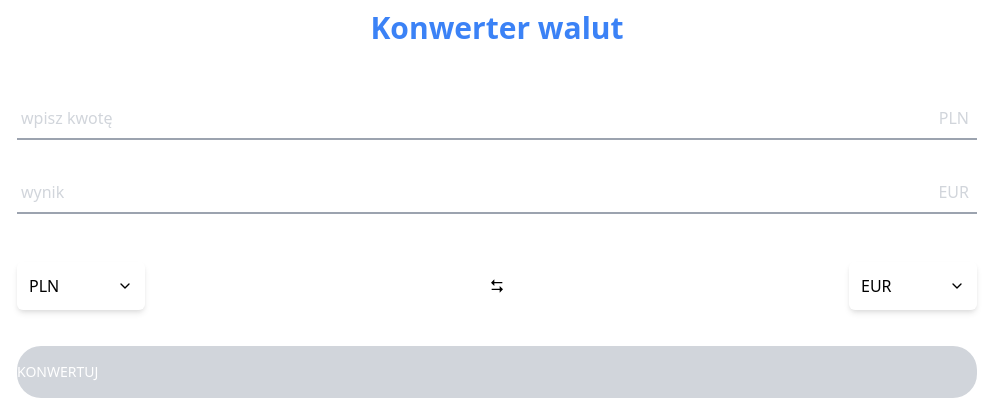
Test: form exchange › not values in inputs › after click submit button should show errors
Click the button with test id "buttonSubmitForm": (497, 372) [17,346,977,398]
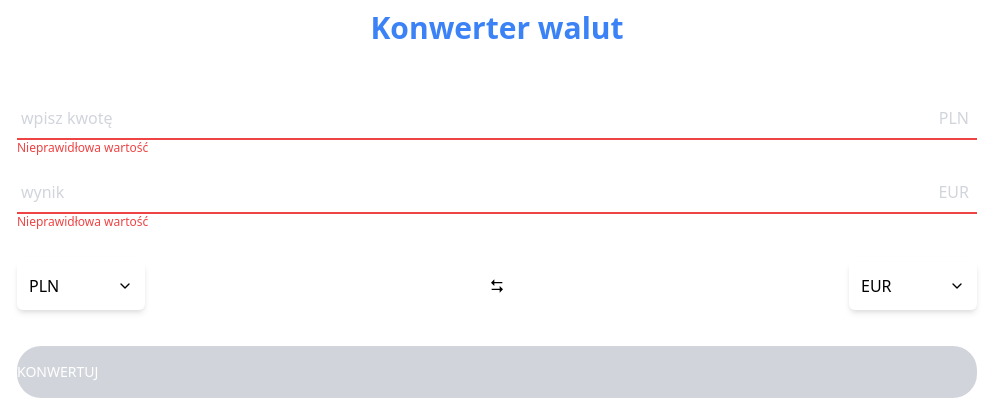
Result: the text with test id "firstInputError" is shown at [17,139,148,156]
Result: the text with test id "secondInputError" is shown at [17,213,148,230]
